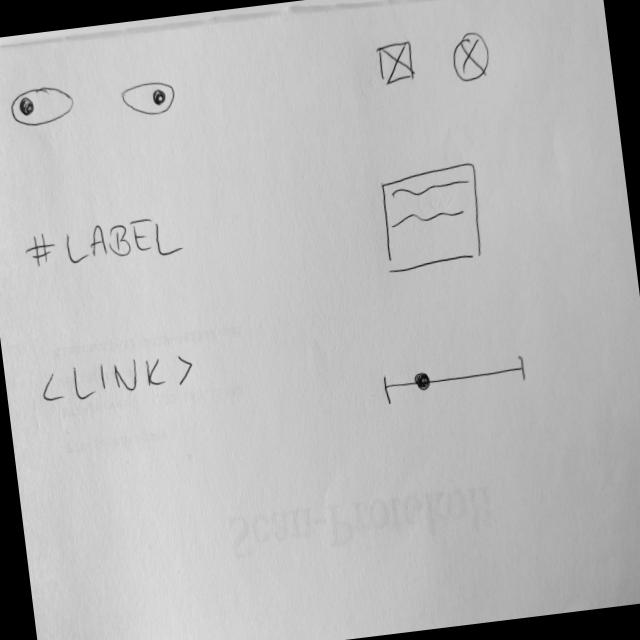image: (449, 28, 495, 84), (374, 39, 419, 89)
label: (23, 211, 186, 277)
link: (39, 350, 199, 408)
slider: (381, 352, 530, 408)
textarea: (377, 160, 489, 277)
toggle: (8, 81, 78, 130), (119, 78, 178, 121)
